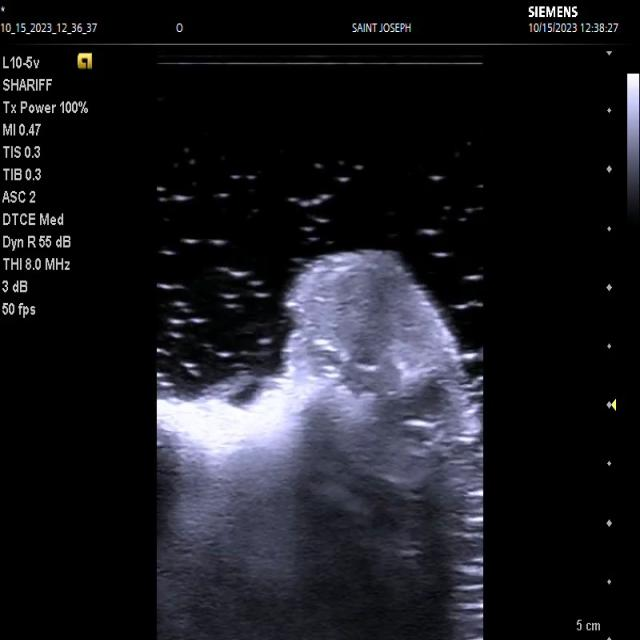tissue: (156, 250, 484, 640)
